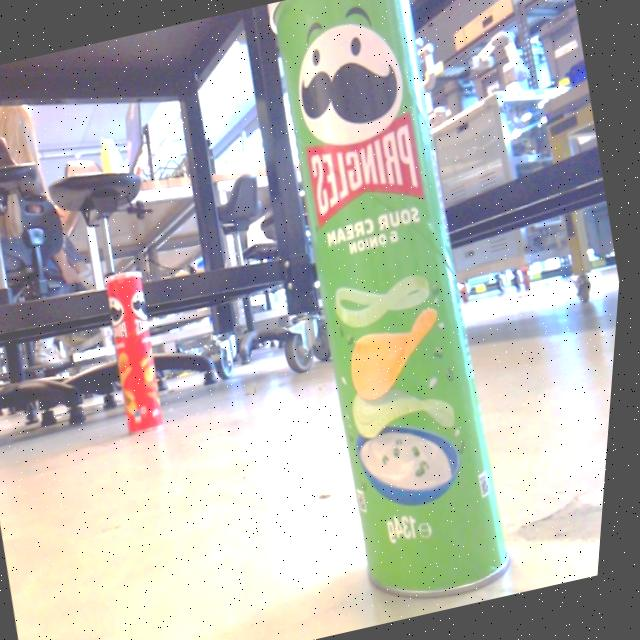greenpringles: (210, 0, 579, 627)
redpringles: (91, 250, 193, 458)
